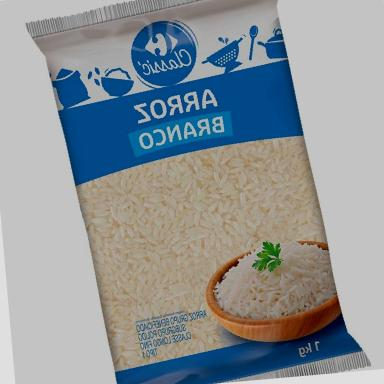rice package: (28, 0, 369, 383)
